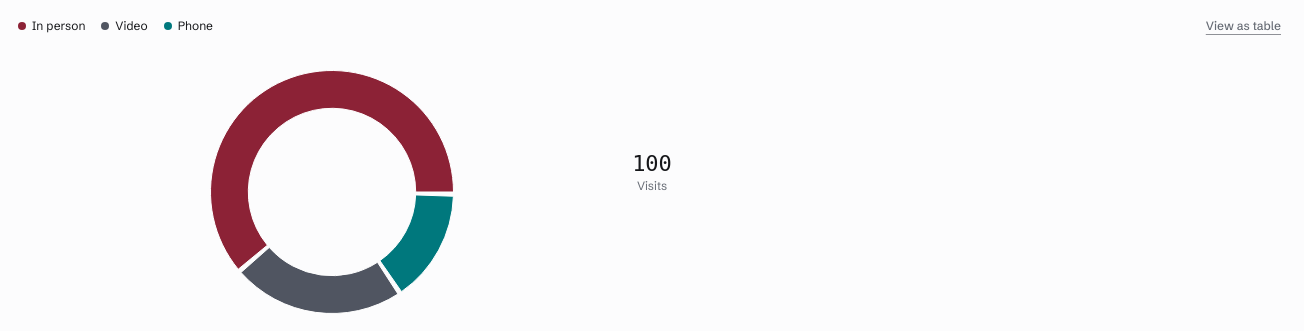
Scenario: DonutChart › draws a slice per item with palette colours, a centre value and a slice table
Expected: the text "100" is shown, [632,150,672,178]
Click the button named "View as table" at (1243, 26), box [1195,12,1292,40]
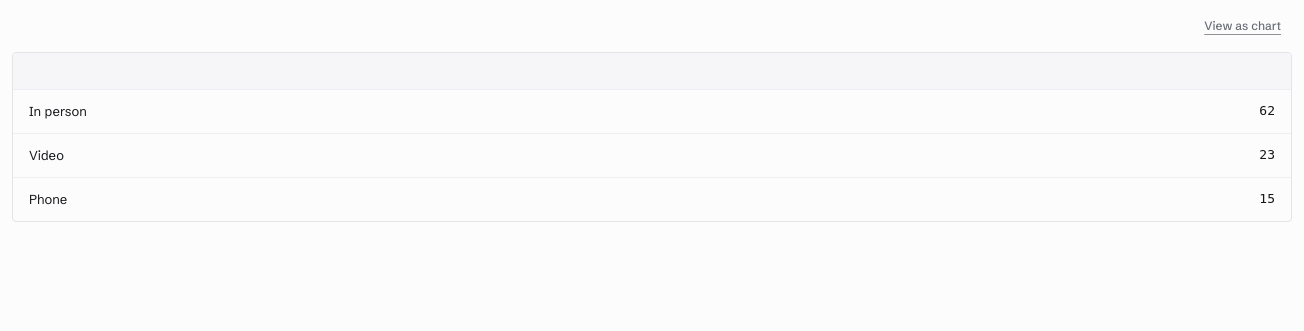
Expected: the cell "In person" is shown, [13,89,848,133]
Expected: the text "62" is shown, [848,89,1291,133]
